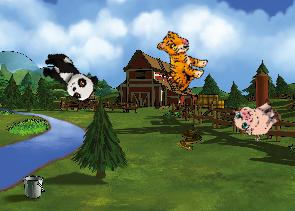panda: (35, 47, 102, 106)
pig: (229, 91, 284, 145)
tiger: (144, 27, 214, 95)
